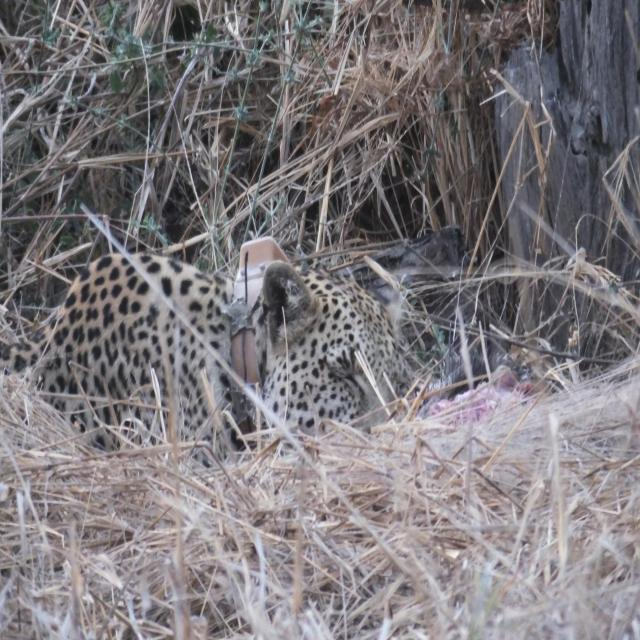Leopard: (3, 220, 437, 473)
